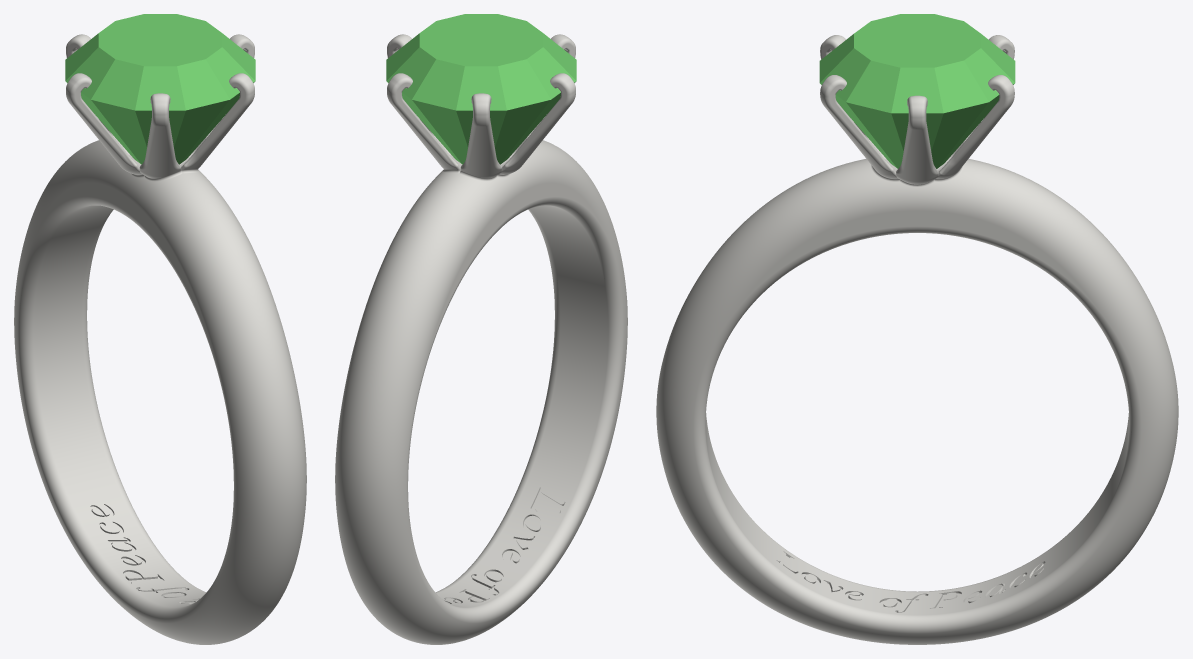
3 views of the same model, side by side, from view 1: azimuth 30°, elevation 25°; view 2: azimuth 150°, elevation 25°; view 3: azimuth 270°, elevation 25° (orthographic). The views are drawn at different scales.
Visible parts, largest first — view 1: 零件1, Diamond; view 2: 零件1, Diamond; view 3: 零件1, Diamond.
Part boxes in pixels (x1,y1,x2,y2): 零件1: [14, 34, 306, 644]; Diamond: [65, 14, 255, 164]; 零件1: [335, 34, 627, 644]; Diamond: [386, 14, 576, 164]; 零件1: [656, 35, 1178, 644]; Diamond: [819, 14, 1015, 168].
Size of the model in its own units: 0.0096 by 0.0289 by 0.0228.
